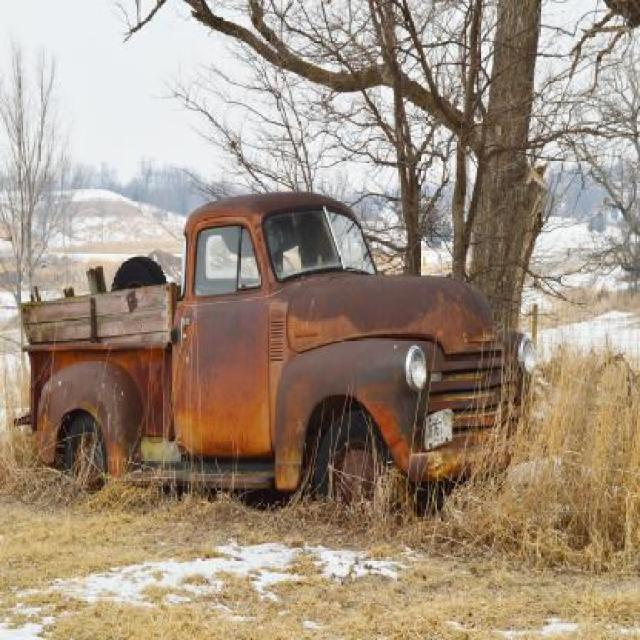corrosion: (23, 184, 534, 513)
